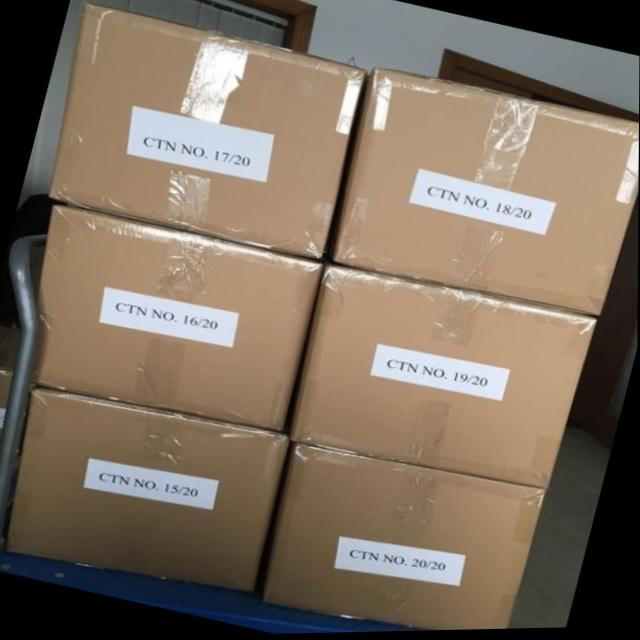box: (47, 2, 365, 264), (331, 70, 639, 320), (289, 266, 596, 491), (35, 207, 321, 435), (7, 387, 288, 593), (262, 443, 545, 632), (0, 326, 18, 455)
